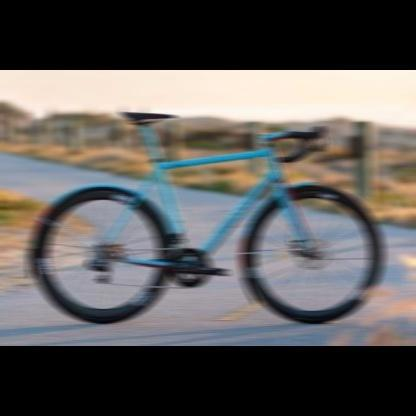Bicycle: (6, 99, 412, 343)
